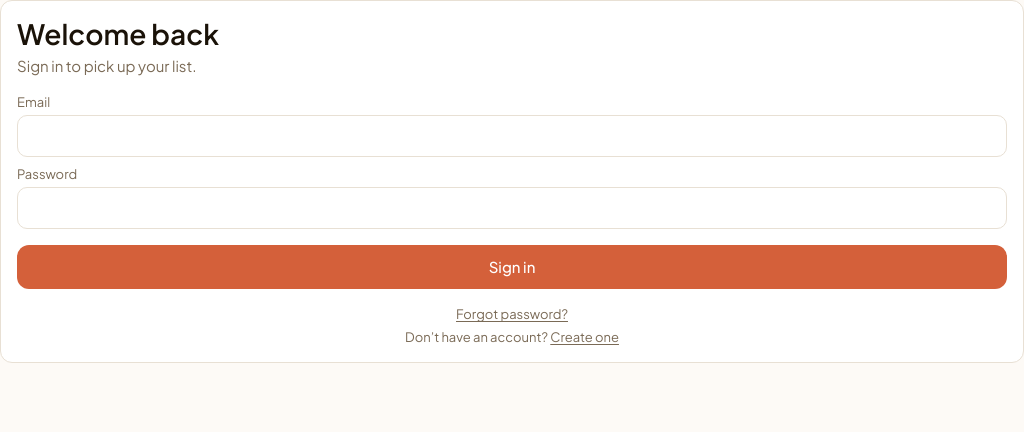
<SignInPage> › invalid-credentials maps to friendly copy + create-account hint
Type "alice@test.local" into the field labelled "Email". click: (512, 136)
box: [17,115,1007,157]
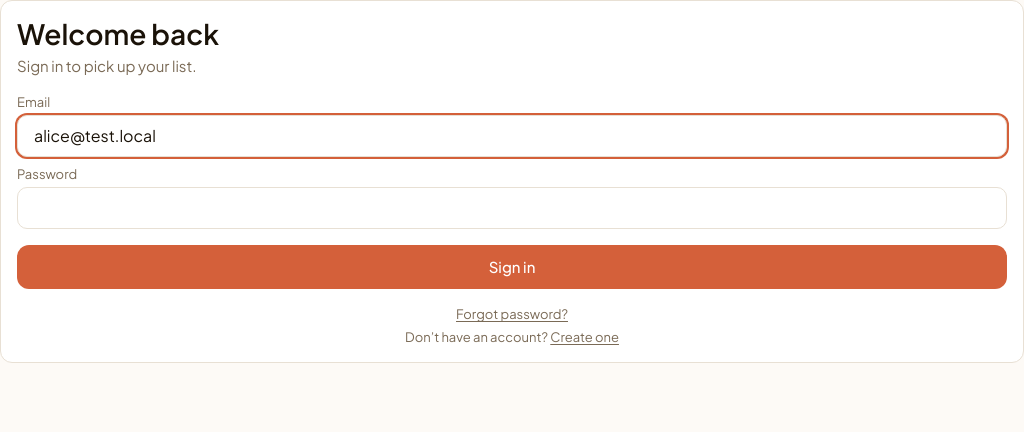
Type "Password123!" into the password field labelled "Password". click: (512, 208)
box: [17,188,1007,230]
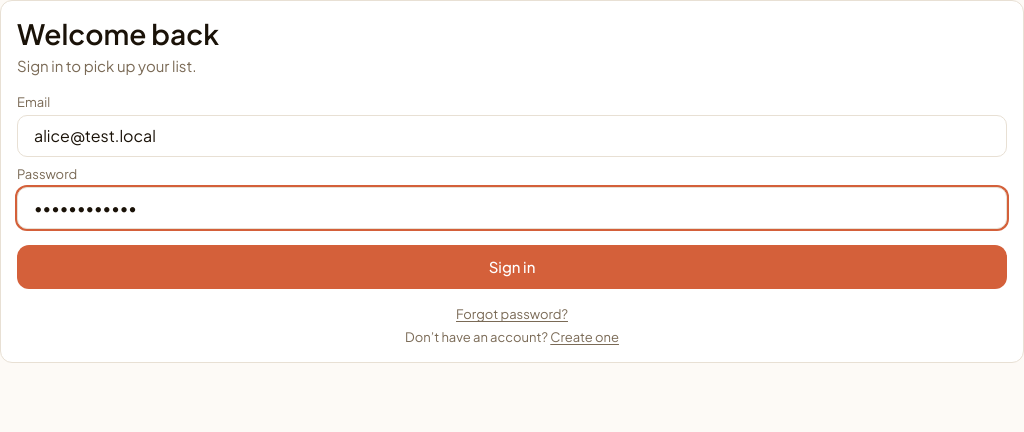
Click the button "Sign in". click: (512, 268)
box: [17,246,1007,290]
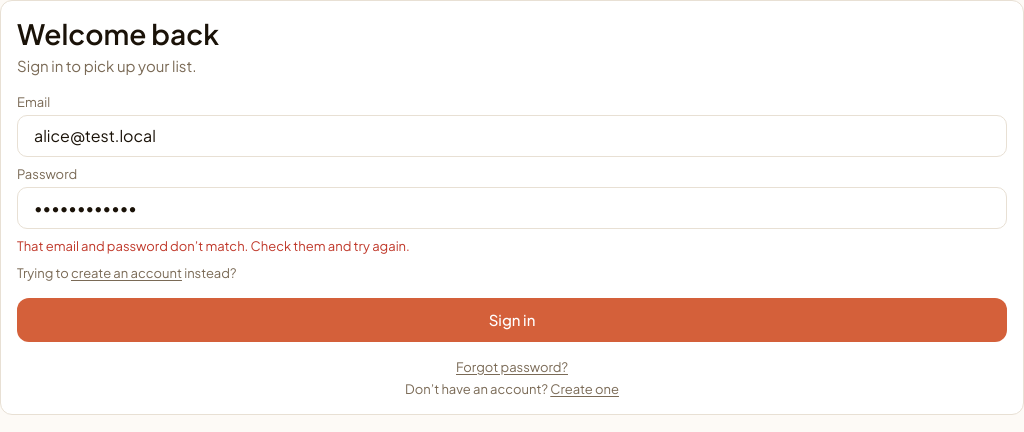
Now the message reads "That email and password don’t match. Check them and try again.", box [17,238,410,254]
